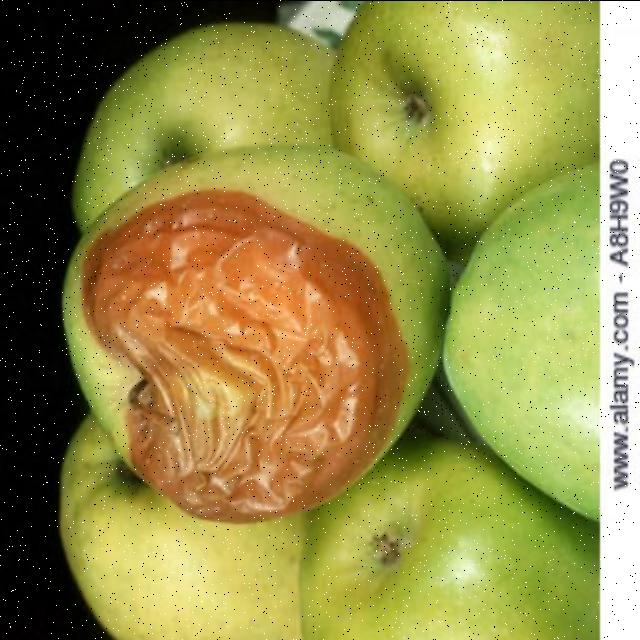ROT: (39, 87, 465, 574)
